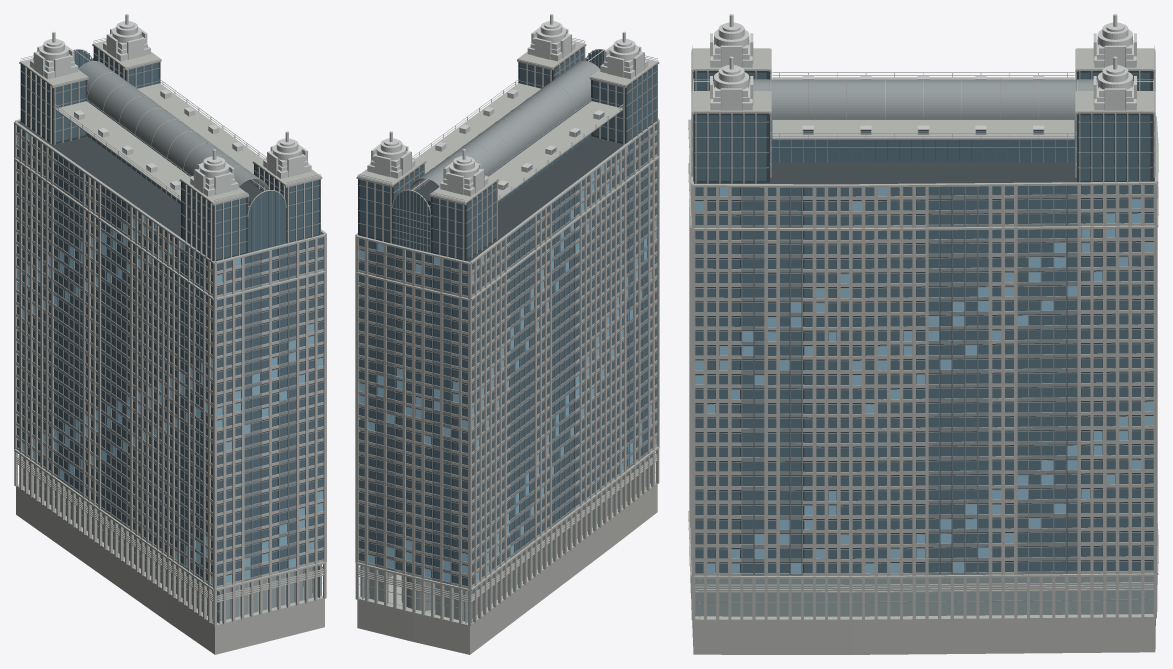
File: wacker_225.glb
3 views of the same model, side by side, from view 1: azimuth 30°, elevation 25°; view 2: azimuth 150°, elevation 25°; view 3: azimuth 270°, elevation 25° (orthographic). The views are drawn at different scales.
Visible parts, largest first — view 1: Pale granite piers and coursed spandrels, Blue grey recessed vision glass, Grey window frames and crown metal, Roof and mechanical recesses, Silver painted crown caps and braces, Night occupied vision glass, Clear renovated lobby glazing; view 2: Pale granite piers and coursed spandrels, Blue grey recessed vision glass, Grey window frames and crown metal, Roof and mechanical recesses, Silver painted crown caps and braces, Night occupied vision glass, Clear renovated lobby glazing; view 3: Pale granite piers and coursed spandrels, Blue grey recessed vision glass, Grey window frames and crown metal, Roof and mechanical recesses, Clear renovated lobby glazing, Night occupied vision glass, Silver painted crown caps and braces.
Boxes of the visible parts, left/top/right/bottom form: Pale granite piers and coursed spandrels: left=14, top=40, right=326, bottom=654; Blue grey recessed vision glass: left=17, top=48, right=323, bottom=585; Grey window frames and crown metal: left=16, top=35, right=323, bottom=612; Roof and mechanical recesses: left=18, top=46, right=322, bottom=584; Silver painted crown caps and braces: left=30, top=14, right=311, bottom=206; Night occupied vision glass: left=17, top=133, right=323, bottom=584; Clear renovated lobby glazing: left=19, top=454, right=321, bottom=623; Pale granite piers and coursed spandrels: left=355, top=40, right=659, bottom=654; Blue grey recessed vision glass: left=358, top=48, right=656, bottom=586; Grey window frames and crown metal: left=357, top=35, right=657, bottom=612; Roof and mechanical recesses: left=358, top=47, right=656, bottom=582; Silver painted crown caps and braces: left=367, top=14, right=648, bottom=206; Night occupied vision glass: left=358, top=134, right=656, bottom=581; Clear renovated lobby glazing: left=360, top=452, right=654, bottom=623; Pale granite piers and coursed spandrels: left=688, top=48, right=1158, bottom=654; Blue grey recessed vision glass: left=693, top=72, right=1153, bottom=573; Grey window frames and crown metal: left=692, top=46, right=1154, bottom=604; Roof and mechanical recesses: left=693, top=71, right=1154, bottom=574; Clear renovated lobby glazing: left=695, top=576, right=1153, bottom=618; Night occupied vision glass: left=695, top=187, right=1153, bottom=573; Silver painted crown caps and braces: left=693, top=14, right=1153, bottom=138.
Size of the model in its own units: 34.8 by 134 by 98.1.
